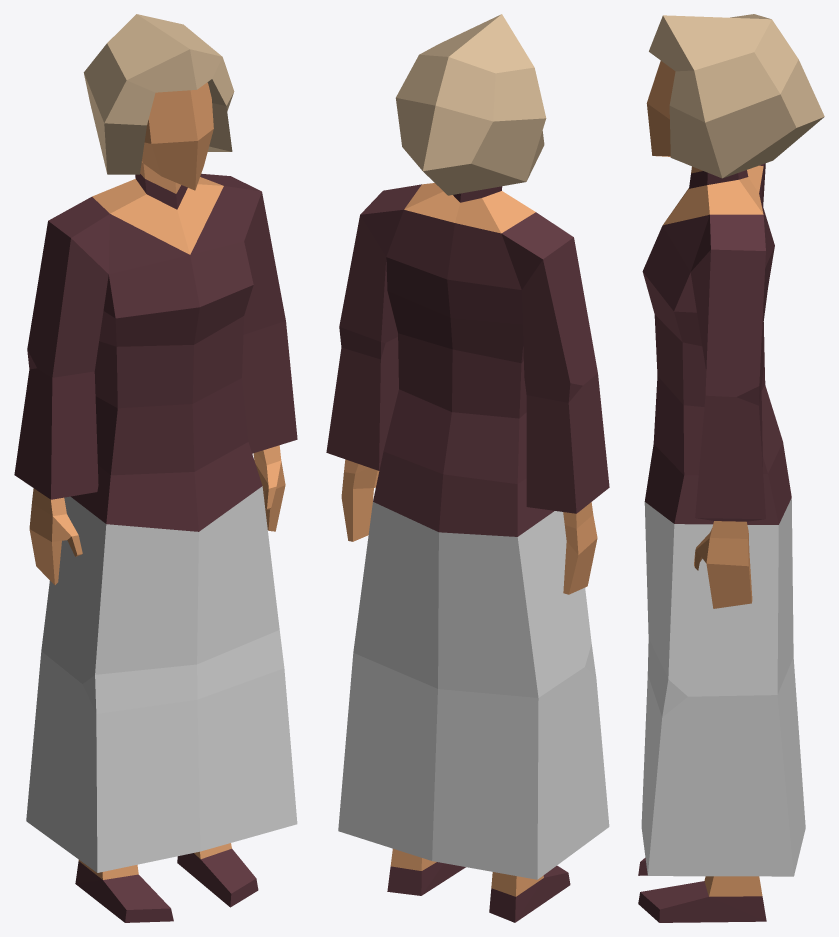
The model's file is woman-lady.fbx.
3 views of the same model, side by side, from view 1: azimuth 30°, elevation 25°; view 2: azimuth 150°, elevation 25°; view 3: azimuth 270°, elevation 25° (orthographic). The views are drawn at different scales.
Parts seen in each view (by area): view 1: woman-lady; view 2: woman-lady; view 3: woman-lady.
Part boxes in pixels (<box>): woman-lady: <box>14,14,297,922</box>; woman-lady: <box>326,14,609,922</box>; woman-lady: <box>638,14,824,922</box>.
Bounding box in the file's own units: 0.5642 × 1.85 × 0.3569.
